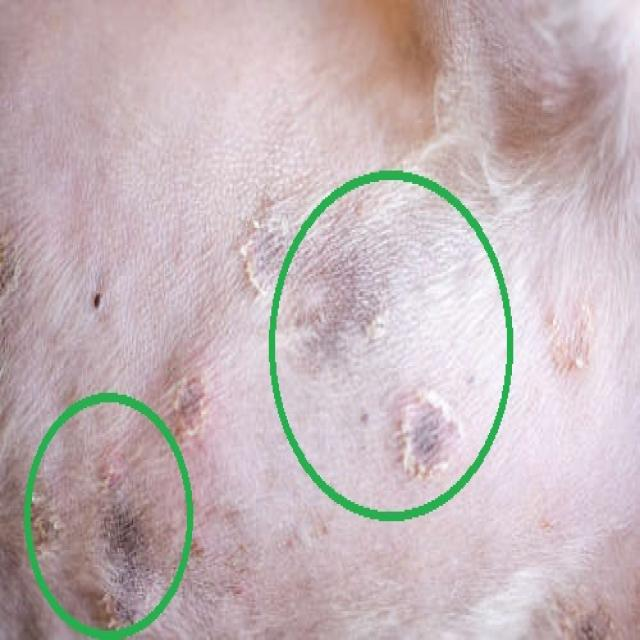viem da do vi khuan (cho): (303, 210, 481, 500), (57, 432, 192, 620)
